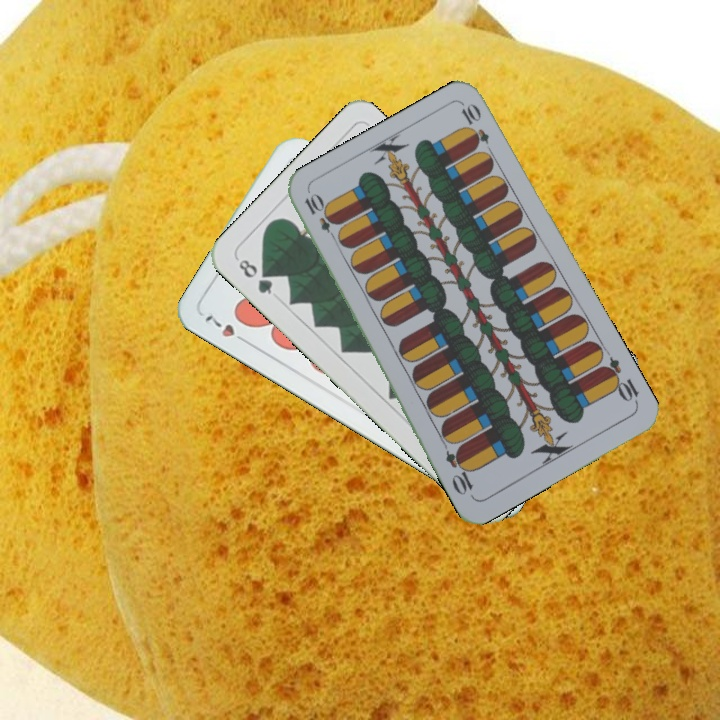E10: (597, 353, 642, 407), (300, 190, 342, 245)
G8: (234, 255, 276, 298)
H7: (200, 310, 252, 347)
